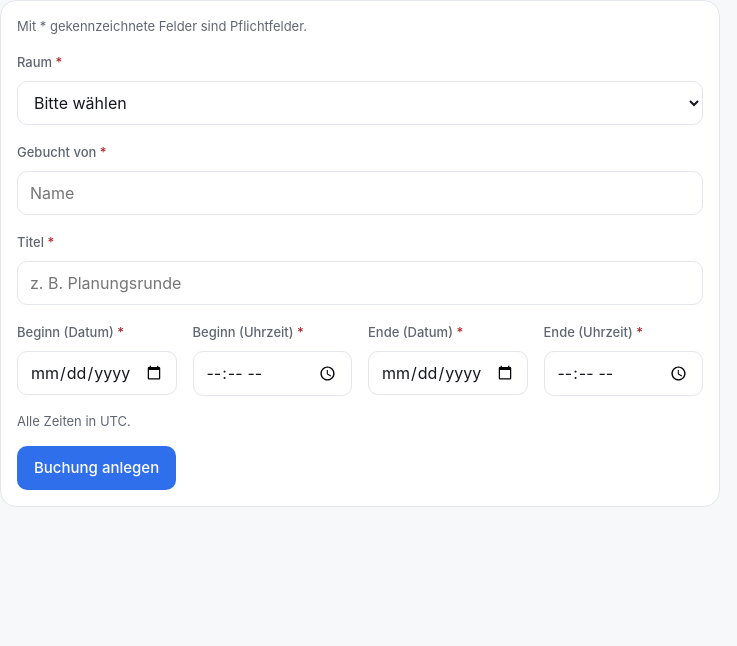
Test: BookingForm › shows field errors only after a field was touched or the form was submitted
The image size is (737, 646).
Expected: the text "Ende muss nach dem Beginn" is not shown
Expected: the text "Bitte einen Titel angeben" is not shown
In the date field labelled "Beginn (Datum) *": [97, 373] box [17, 351, 176, 395], type "2030-01-02"
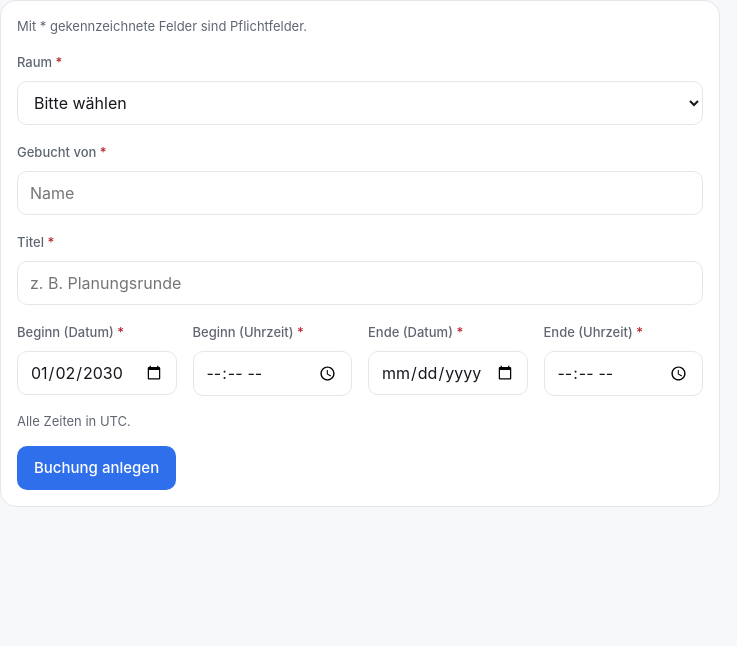
In the time field labelled "Beginn (Uhrzeit) *": [272, 373] box [192, 351, 352, 396], type "10:00"
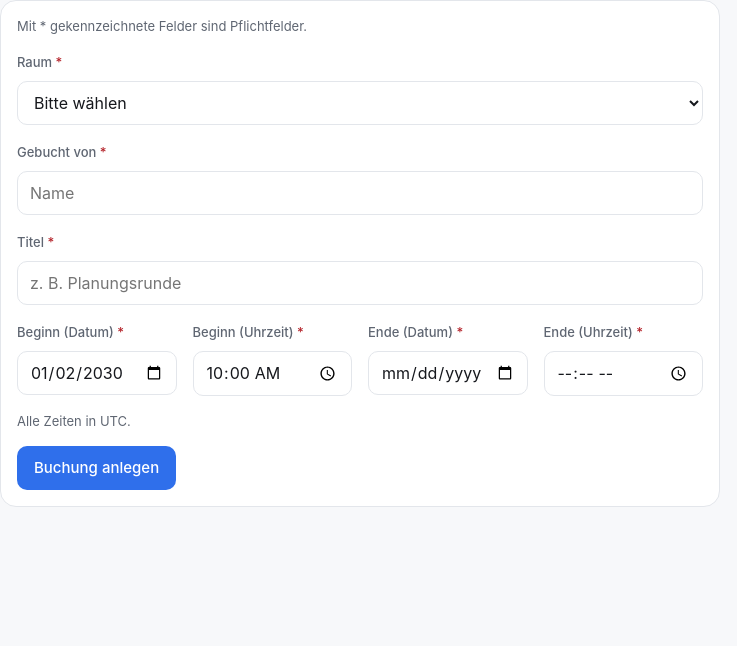
In the date field labelled "Ende (Datum) *": [448, 373] box [368, 351, 528, 395], type "2030-01-02"
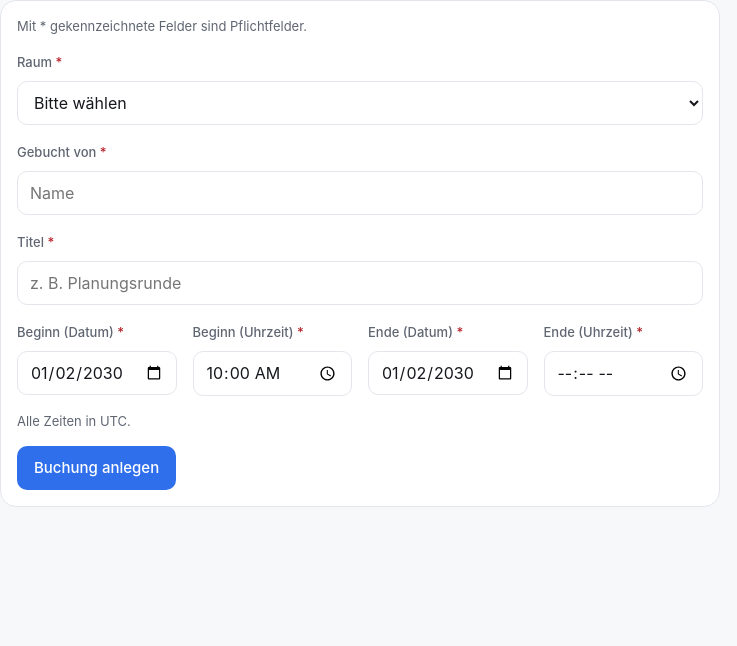
In the time field labelled "Ende (Uhrzeit) *": [623, 373] box [544, 351, 703, 396], type "09:00"
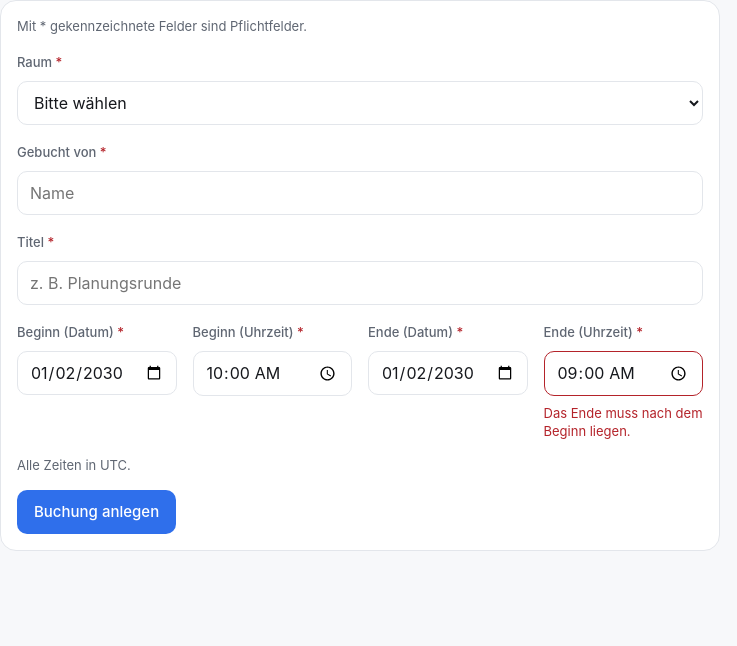
Expected: the text "Bitte einen Titel angeben" is not shown
Result: the text "Das Ende muss nach dem Beginn liegen." is shown at [544, 404, 703, 440]
Click the button "Buchung anlegen": [97, 512] box [17, 490, 176, 534]
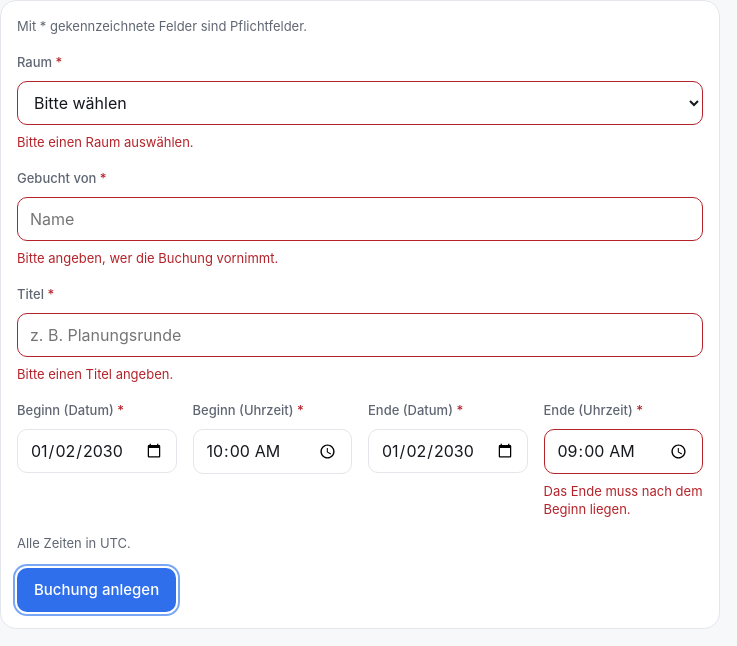
Result: the text "Bitte einen Titel angeben." is shown at [17, 366, 173, 382]
